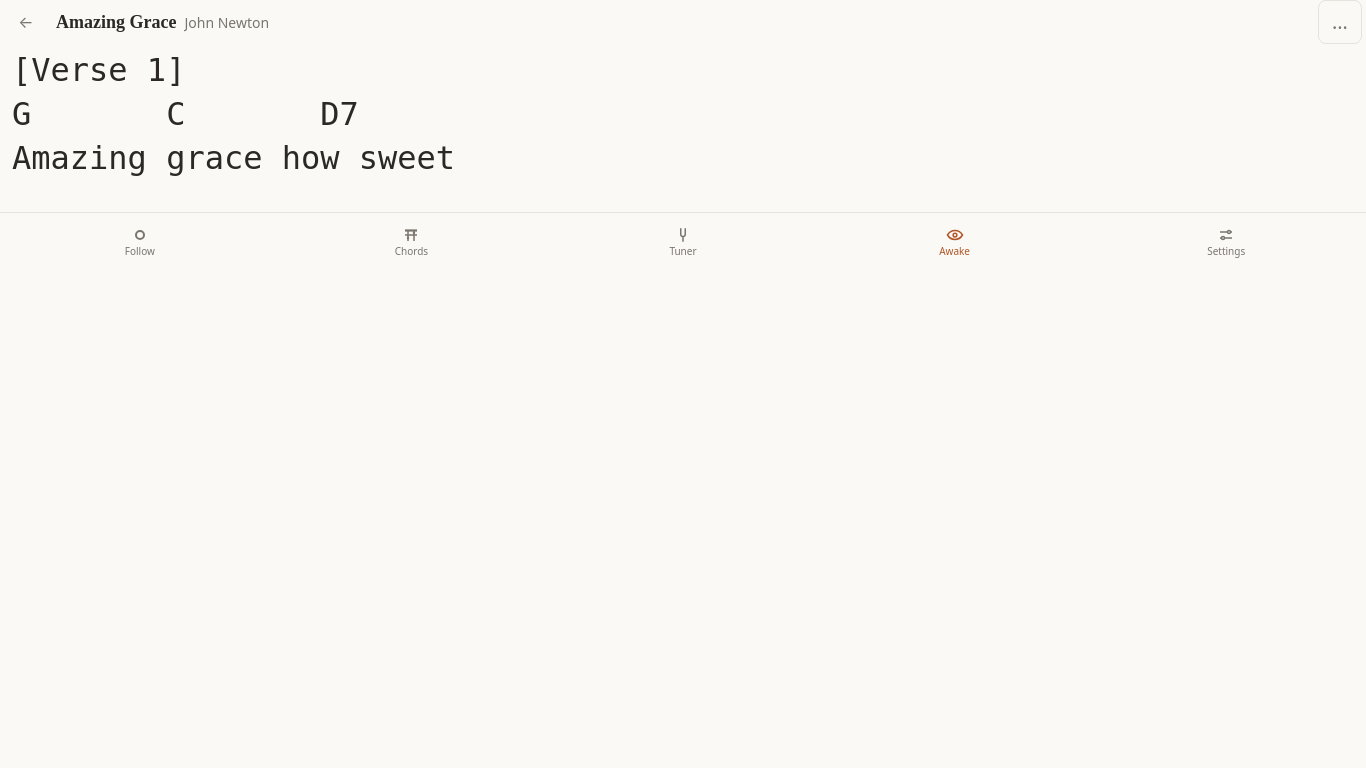
Test case: transpose › rewrites the chart on screen, and only the chords in it
The image size is (1366, 768).
Expected: the text "[Verse 1] G C D7 Amazing grace how sweet" is shown, [12, 51, 455, 177]
Step 1. Click the button with aria-label "Chart settings" → (1226, 241), box [1170, 215, 1282, 267]
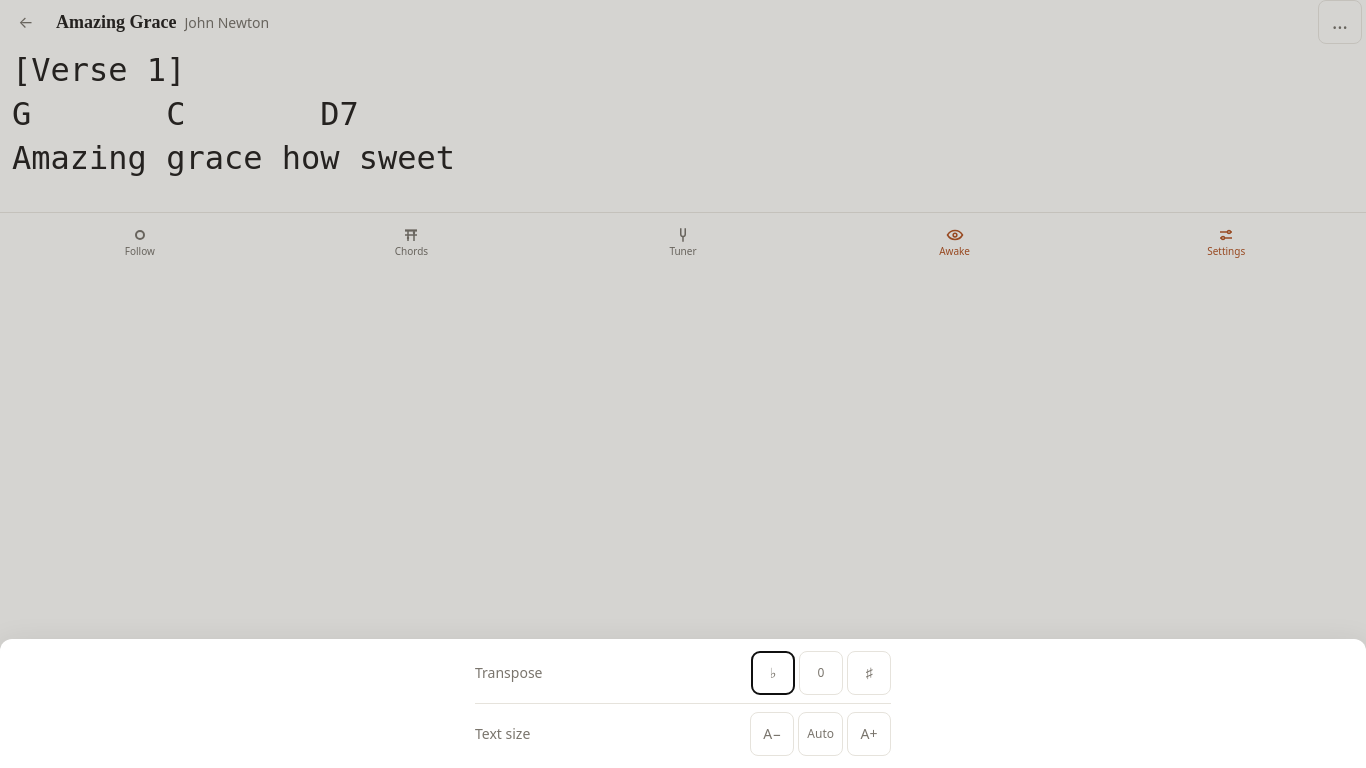
Result: the element named "Transpose" is shown at [751, 651, 891, 695]
Step 2. Click the button named "Up a semitone" → (869, 673), box [847, 651, 891, 695]
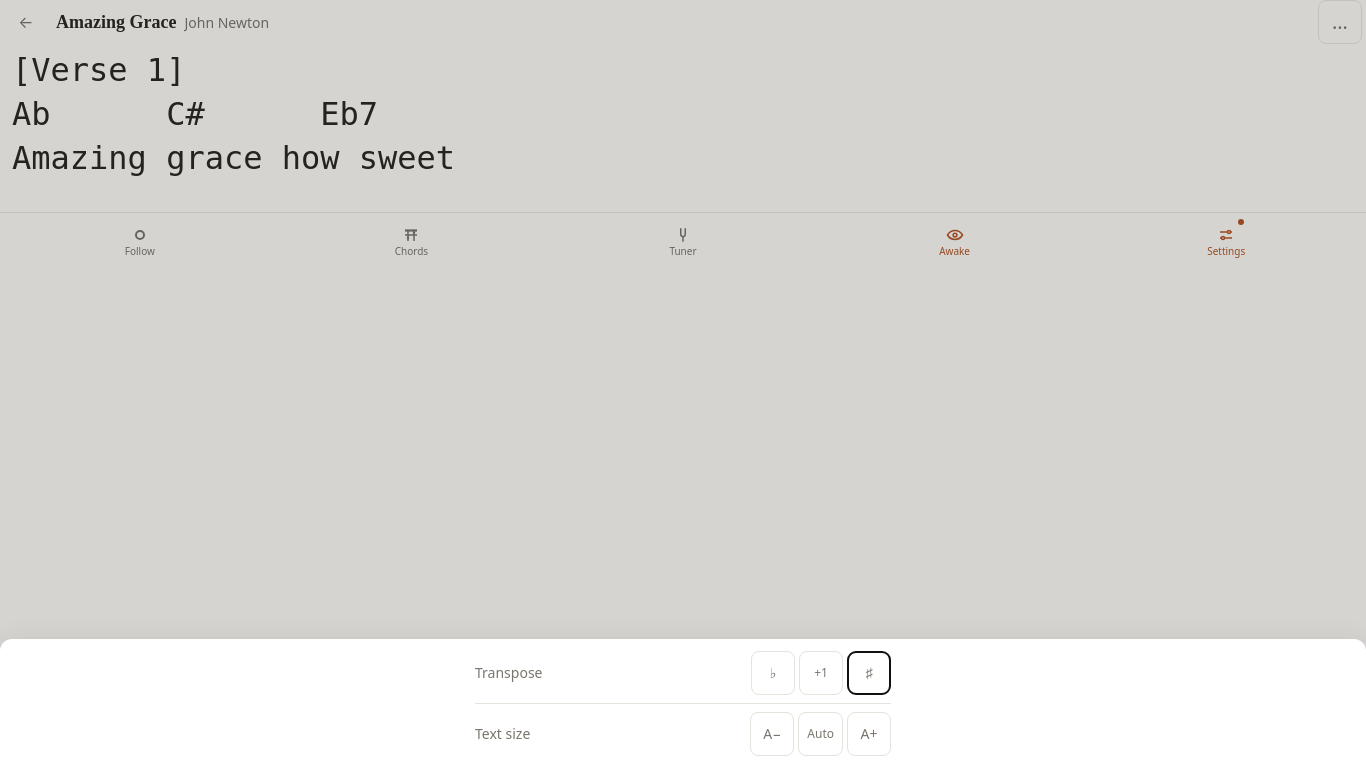
Step 3. Click the button named "Up a semitone" → (869, 673), box [847, 651, 891, 695]
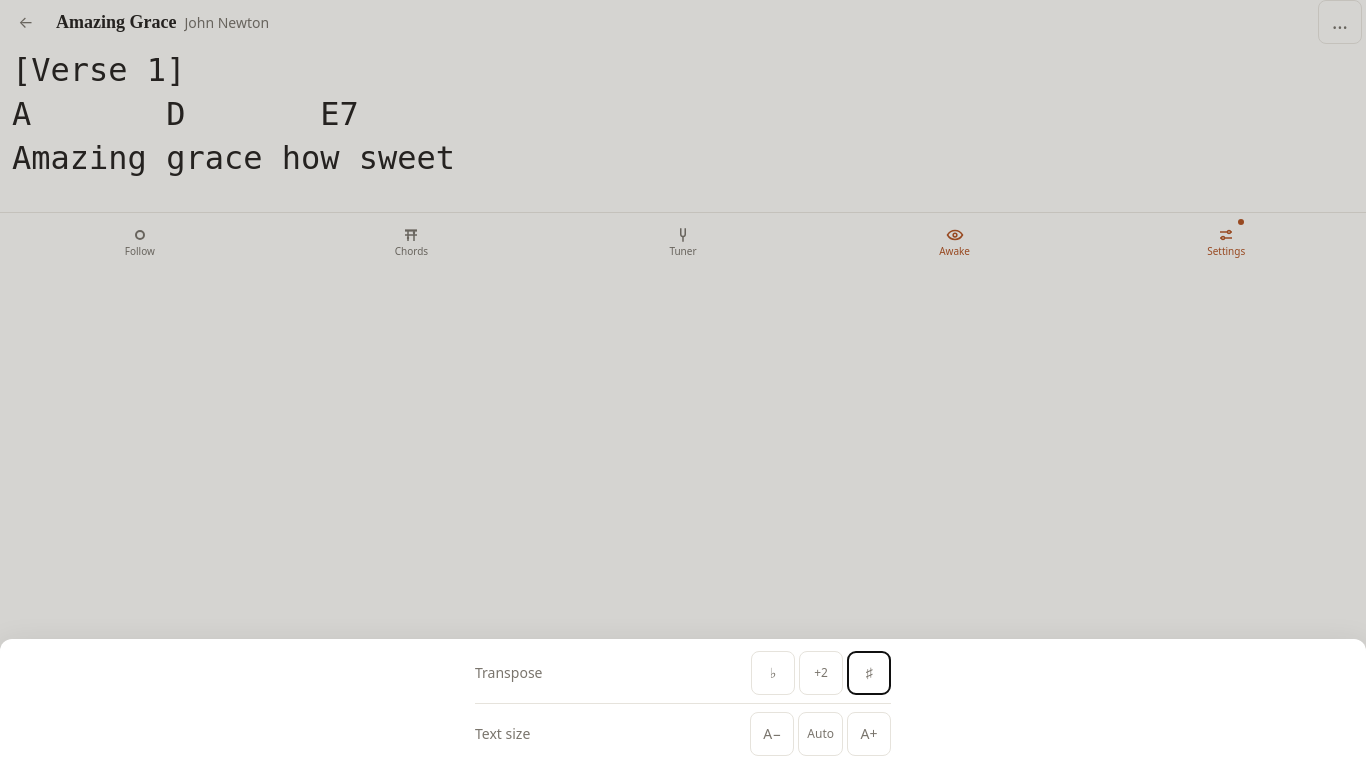
Result: the text "[Verse 1] A D E7 Amazing grace how sweet" is shown at [12, 51, 455, 177]
